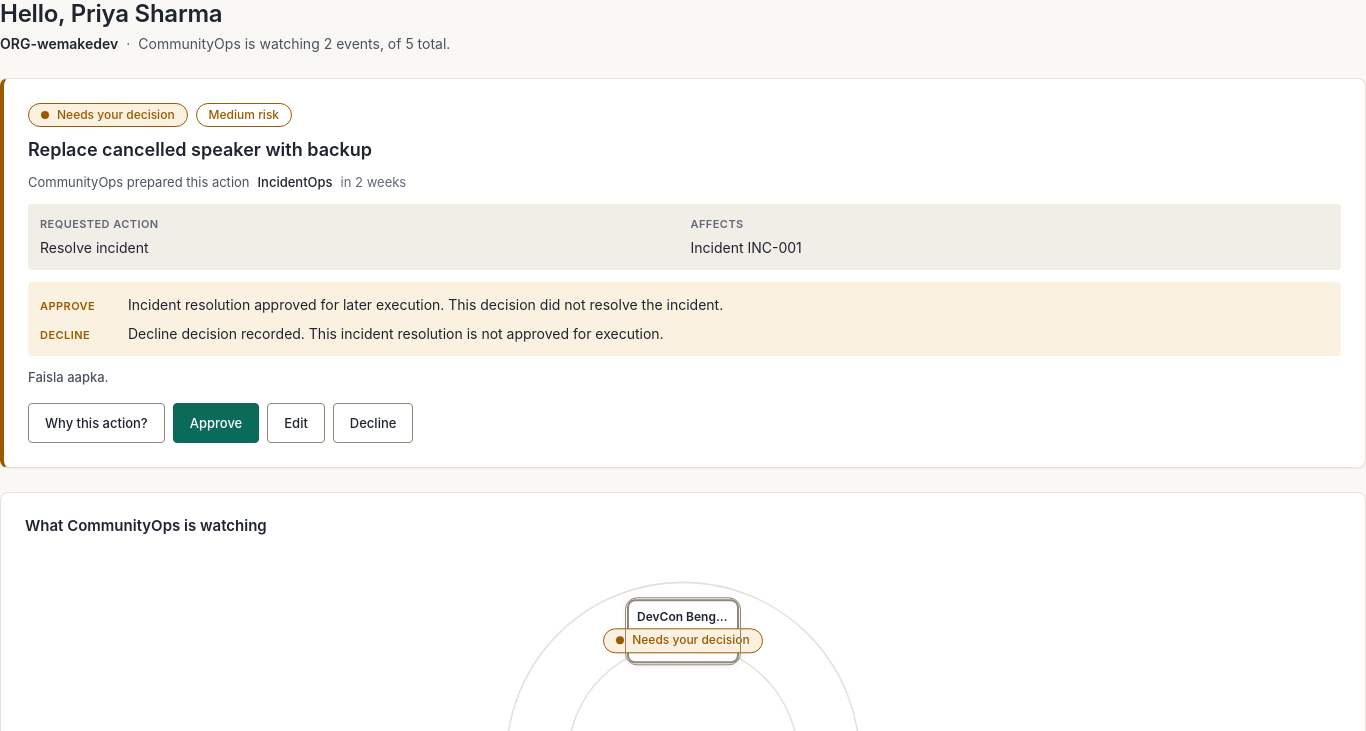
Test case: the resolved page (requirements 4.1, 4.2, 4.3, 4.4, 4.6, 4.7) › keeps the agent's reasoning behind 'Why this action?' (requirement 4.9)
The image size is (1366, 731).
Expected: the element "Needs your decision" is shown, [0,78,1365,468]
Step 1. Click the button "Why this action?" → (96, 423), box [28,403,165,443]
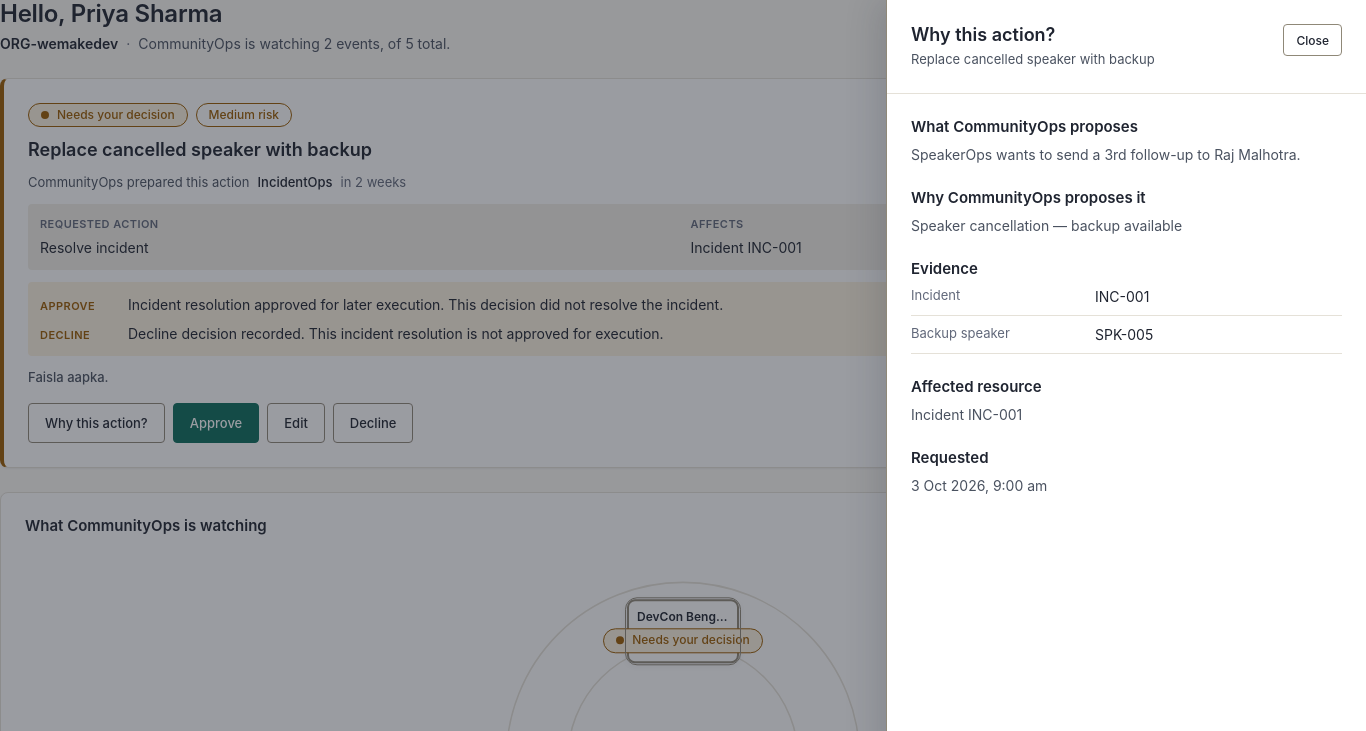
Expected: the text "Speaker cancellation — backup available" is shown, [911,217,1182,234]
